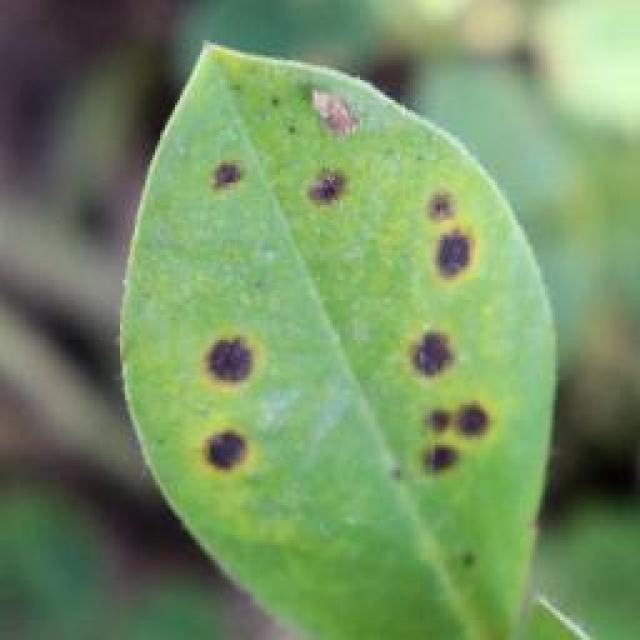Yellowish: (160, 55, 550, 575)
